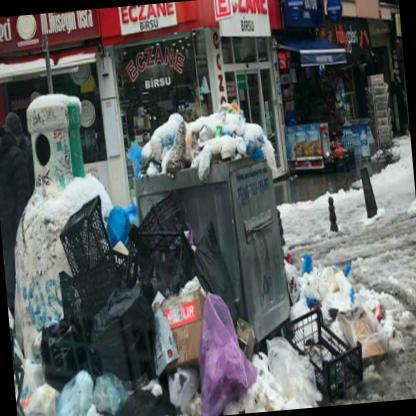Garbage: (134, 192, 238, 336), (137, 102, 281, 170), (193, 280, 260, 415), (157, 269, 228, 376), (286, 310, 364, 406), (92, 298, 154, 388), (339, 292, 392, 373), (31, 308, 86, 384), (62, 353, 126, 415), (268, 333, 318, 407), (107, 195, 141, 261), (325, 264, 362, 317), (154, 118, 182, 180), (21, 383, 64, 415), (173, 356, 195, 410), (197, 148, 215, 184), (297, 247, 312, 281), (306, 290, 321, 314)
